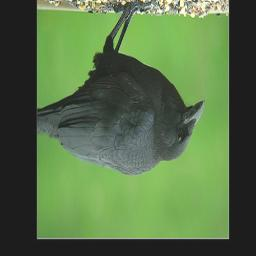Crow: (36, 0, 205, 175)
